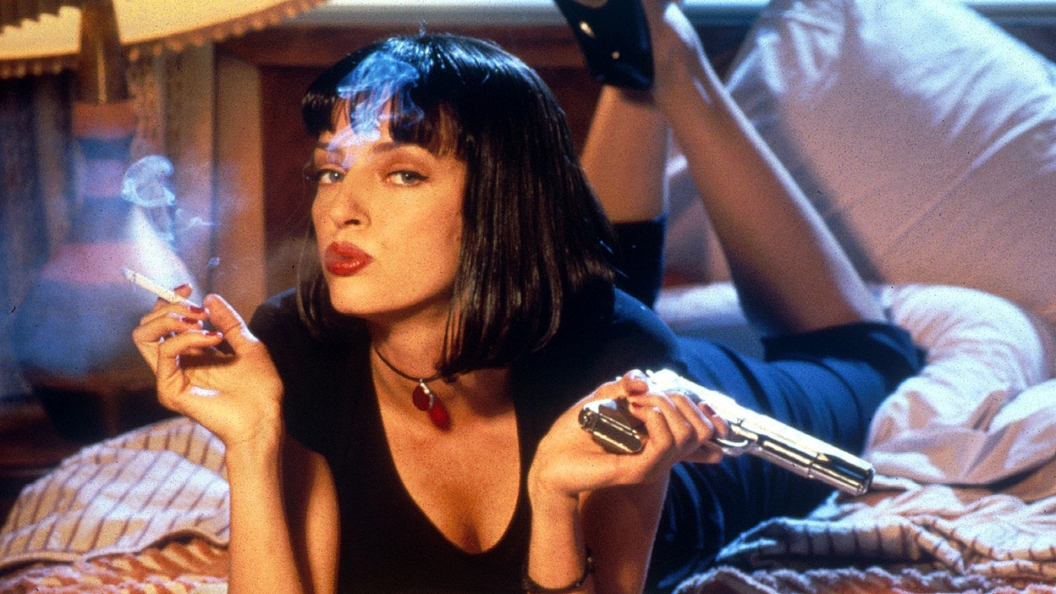cigarette: (108, 260, 212, 317)
